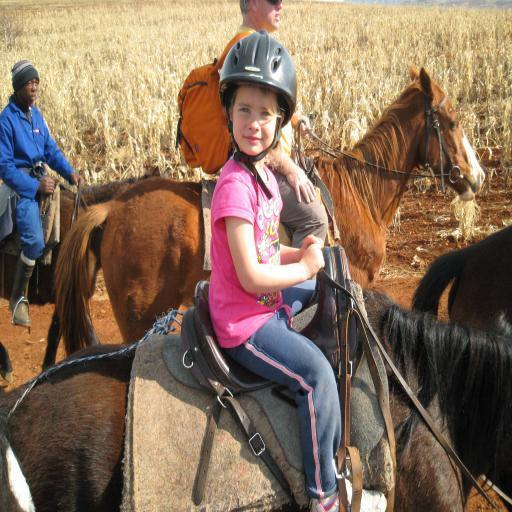horse: (54, 64, 484, 355), (0, 285, 512, 512), (0, 166, 162, 384), (408, 225, 512, 342)
